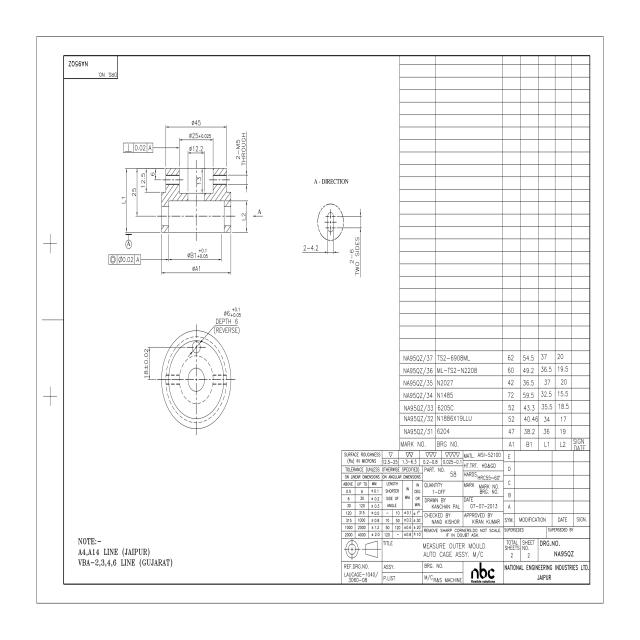dimension: (213, 305, 242, 335), (348, 235, 361, 278), (235, 131, 248, 168), (186, 246, 208, 259), (143, 348, 149, 380), (188, 132, 212, 139), (188, 144, 204, 153), (302, 244, 320, 252), (140, 170, 146, 190), (190, 118, 203, 126), (120, 194, 126, 206), (130, 186, 136, 198), (192, 265, 201, 272), (241, 211, 246, 222), (197, 176, 202, 186), (150, 170, 155, 177)
